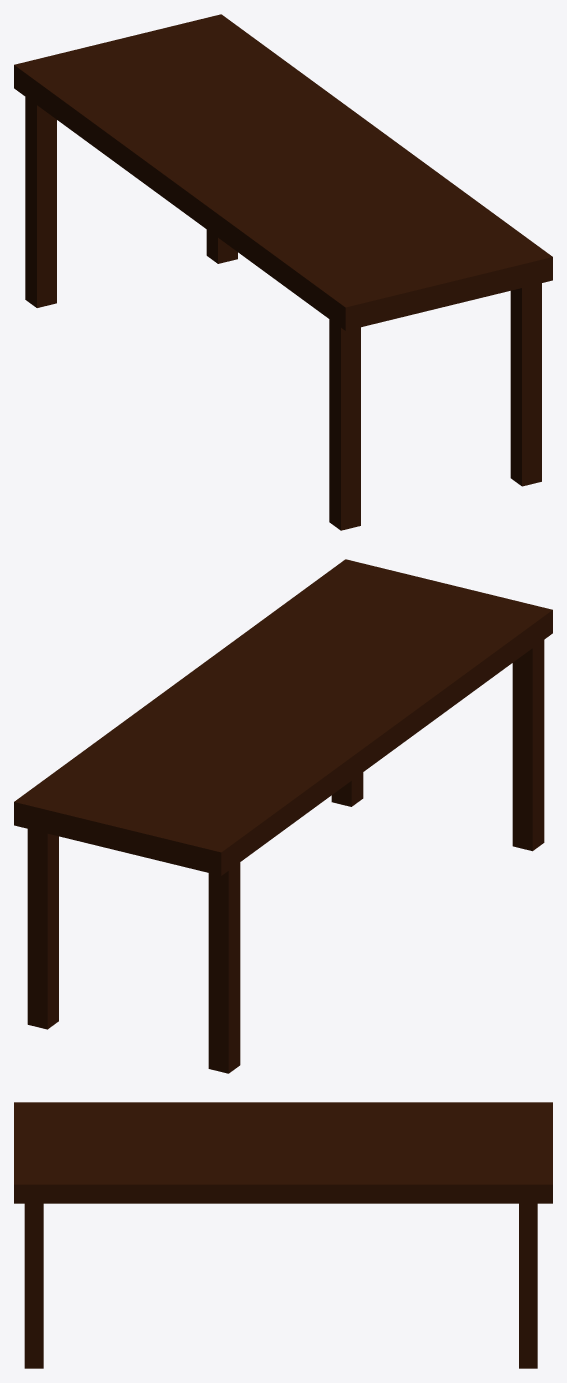
The model's file is table.fbx.
The picture shows the model from 3 angles, top to bottom: view 1: azimuth 30°, elevation 25°; view 2: azimuth 150°, elevation 25°; view 3: azimuth 270°, elevation 25°; orthographic projection. The views are drawn at different scales.
Parts seen in each view (by area): view 1: table; view 2: table; view 3: table.
Part boxes in pixels (bbox=[...]): table: bbox=[14, 14, 552, 530]; table: bbox=[14, 559, 552, 1073]; table: bbox=[14, 1102, 552, 1368].
Size of the model in its own units: 72.22 by 76.06 by 200.
